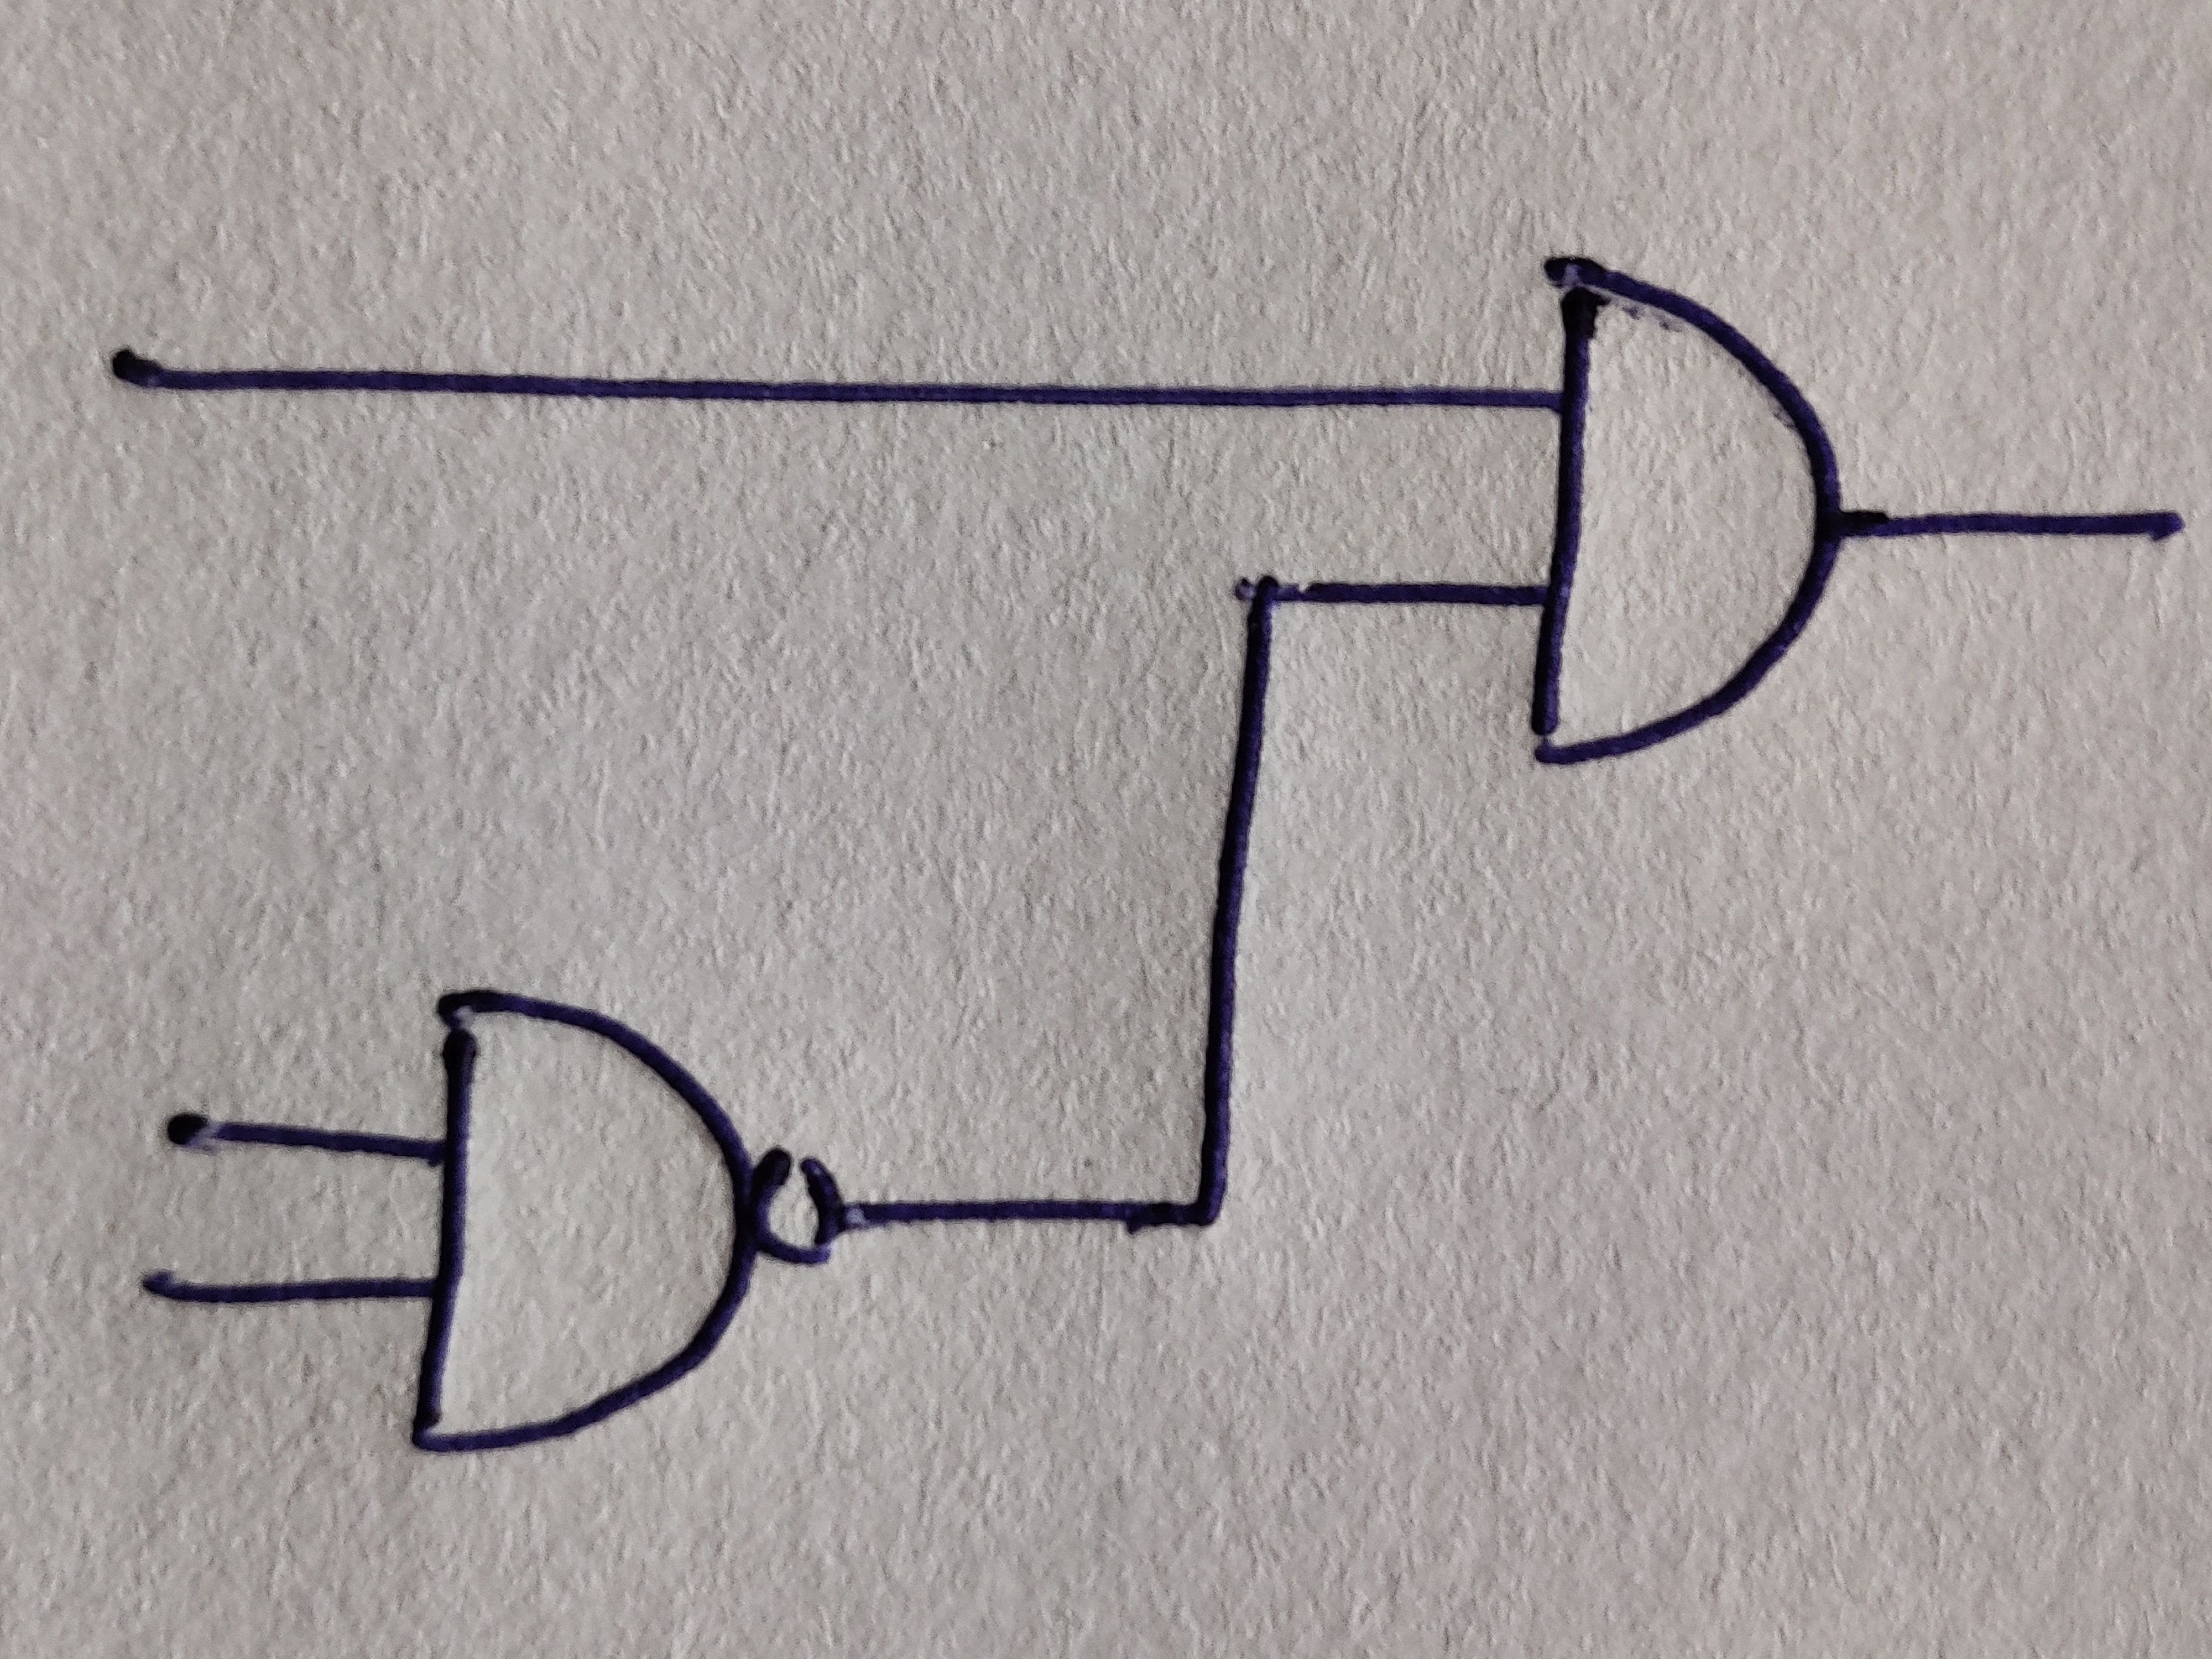and: (411, 992, 756, 1455), (1531, 260, 1841, 770)
not: (751, 1147, 845, 1265)
